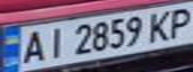2: (69, 20, 93, 56)
5: (109, 16, 130, 51)
8: (90, 18, 112, 53)
9: (124, 12, 148, 47)
A: (15, 27, 51, 65)
I: (42, 24, 69, 60)
K: (145, 7, 175, 43)
P: (163, 3, 193, 39)
